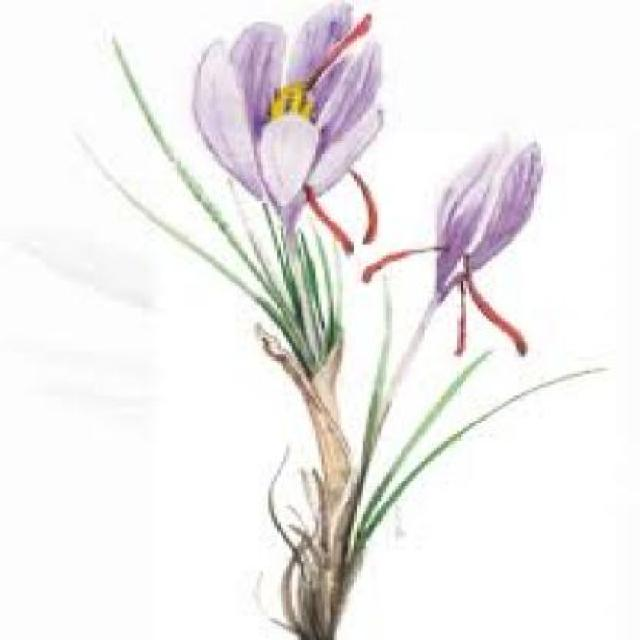Flower: (191, 0, 386, 235), (430, 135, 548, 314)
stigma: (471, 282, 536, 364), (306, 11, 378, 84), (358, 239, 444, 288), (302, 184, 358, 258), (352, 168, 387, 246), (447, 280, 472, 360)
